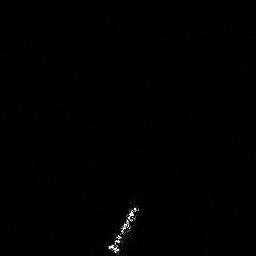ship: (102, 200, 143, 256)
